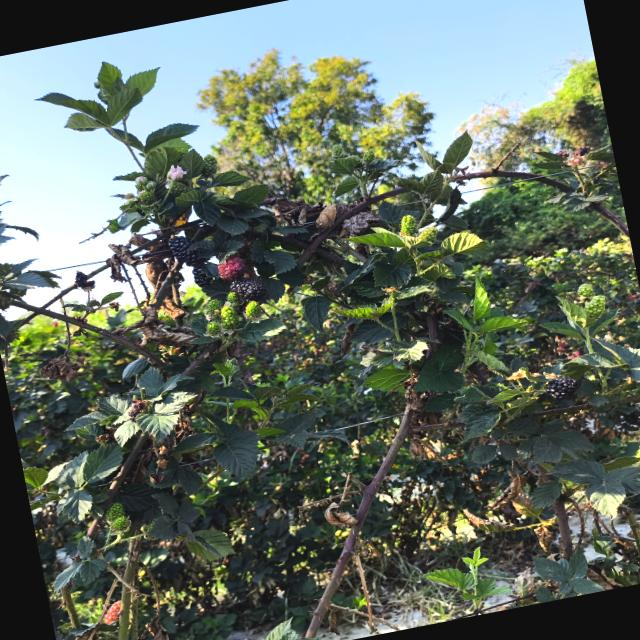maduro: (169, 236, 211, 266), (230, 278, 267, 302), (546, 376, 582, 400), (193, 267, 213, 289)
marron: (218, 256, 247, 280)
